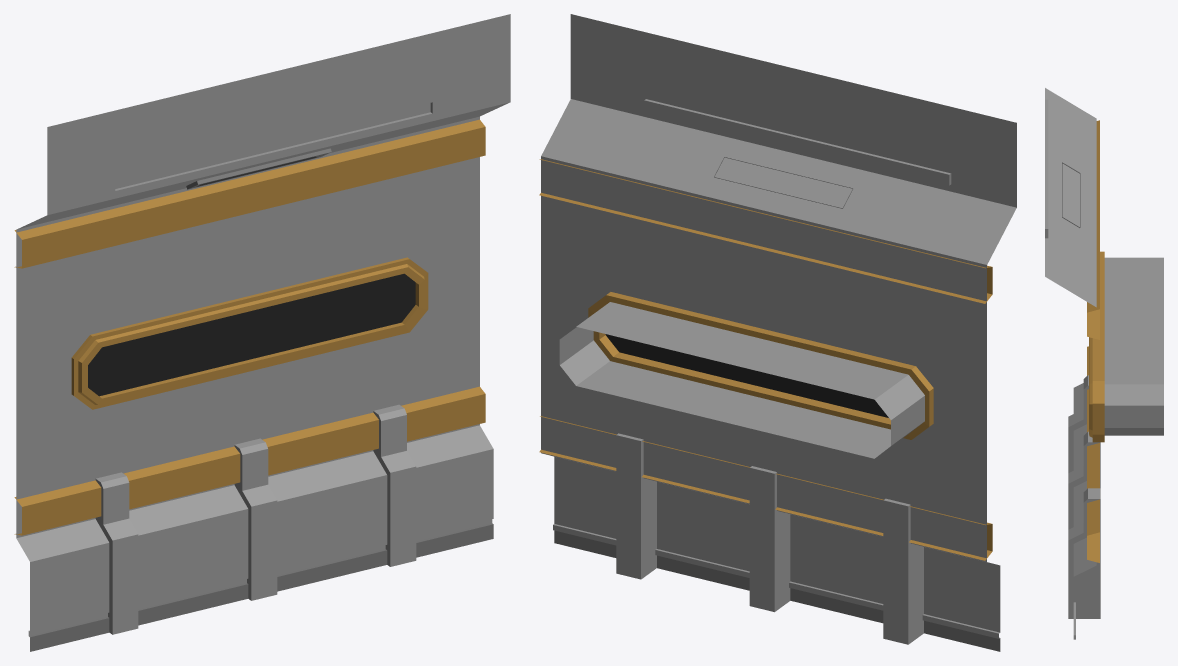
The model's file is LongWindow_Wall_SideA.glb.
3 views of the same model, side by side, from view 1: azimuth 30°, elevation 25°; view 2: azimuth 150°, elevation 25°; view 3: azimuth 270°, elevation 25° (orthographic). The views are drawn at different scales.
Visible parts, largest first — view 1: LongWindow_Wall_SideA; view 2: LongWindow_Wall_SideA; view 3: LongWindow_Wall_SideA.
Part boxes in pixels (left/top/right/bottom): LongWindow_Wall_SideA: left=14, top=14, right=510, bottom=651; LongWindow_Wall_SideA: left=539, top=14, right=1016, bottom=651; LongWindow_Wall_SideA: left=1045, top=88, right=1163, bottom=639.
Size of the model in its own units: 1.36 by 1.51 by 0.3618.
